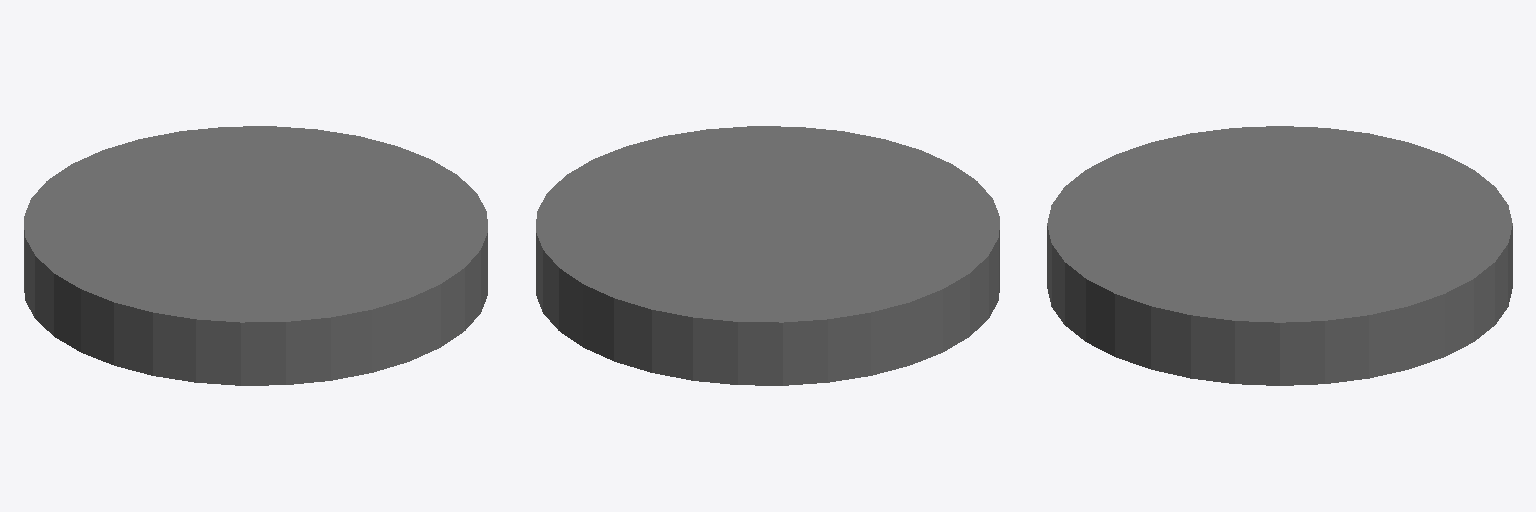
File: coinCarnegie.obj
The picture shows the model from 3 angles: view 1: azimuth 30°, elevation 25°; view 2: azimuth 150°, elevation 25°; view 3: azimuth 270°, elevation 25°; orthographic projection.
Visible parts, largest first — view 1: Cylinder; view 2: Cylinder; view 3: Cylinder.
Boxes of the visible parts, x1=… form: Cylinder: x1=24, y1=126, x2=487, y2=385; Cylinder: x1=536, y1=126, x2=999, y2=385; Cylinder: x1=1047, y1=126, x2=1512, y2=385.
Bounding box in the file's own units: 2 × 0.3 × 2.